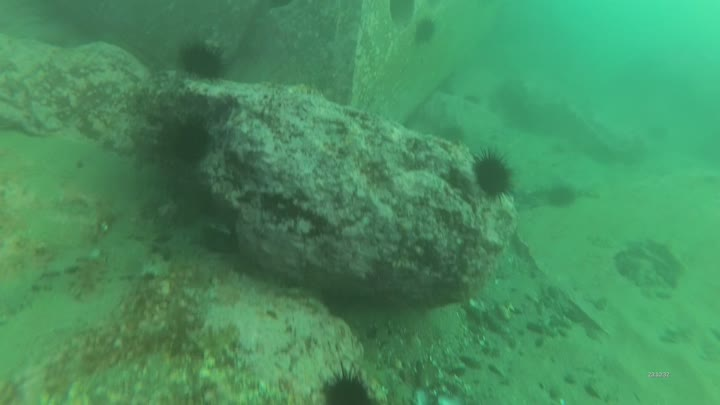echinus: (314, 362, 383, 405), (471, 145, 520, 204), (174, 36, 230, 85), (170, 122, 215, 169), (547, 183, 580, 214), (416, 17, 441, 47)
holothurian: (1, 269, 36, 333)
